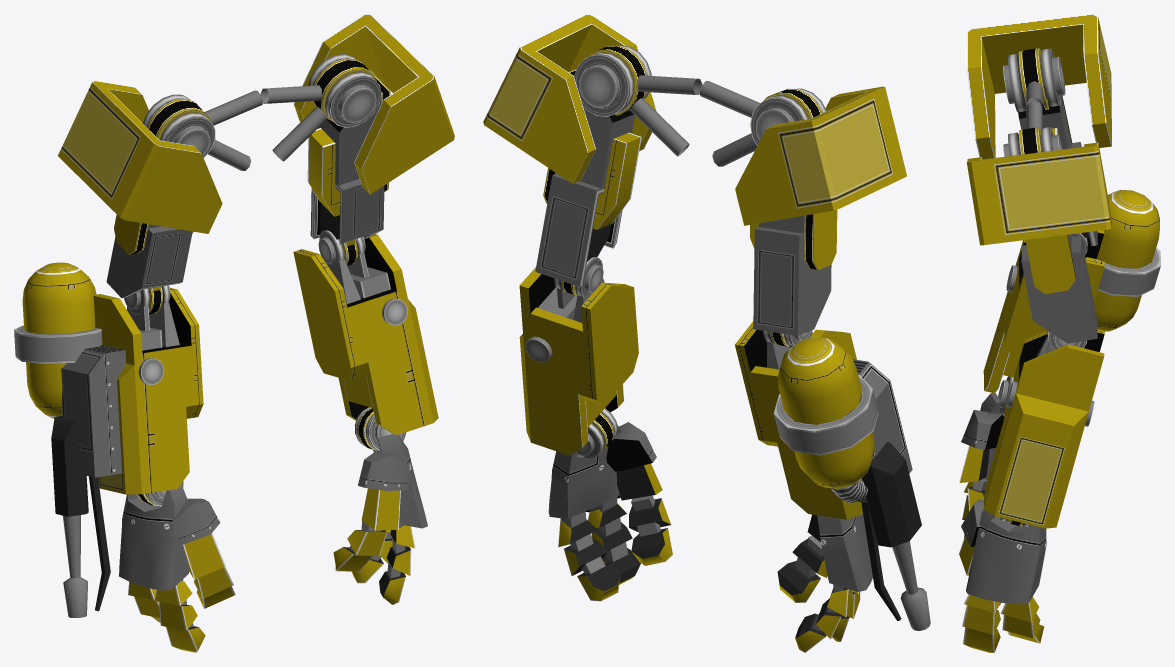
The model's file is arms_w.fbx.
3 renders of one model, left to right at view 1: azimuth 30°, elevation 25°; view 2: azimuth 150°, elevation 25°; view 3: azimuth 270°, elevation 25°, orthographic. The views are drawn at different scales.
Visible parts, largest first — view 1: ARMS_W; view 2: ARMS_W; view 3: ARMS_W.
Boxes of the visible parts, x1=… form: ARMS_W: x1=14, y1=14, x2=454, y2=652; ARMS_W: x1=483, y1=14, x2=930, y2=652; ARMS_W: x1=959, y1=14, x2=1160, y2=652.
Bounding box in the file's own units: 55.46 × 76.75 × 26.85.
